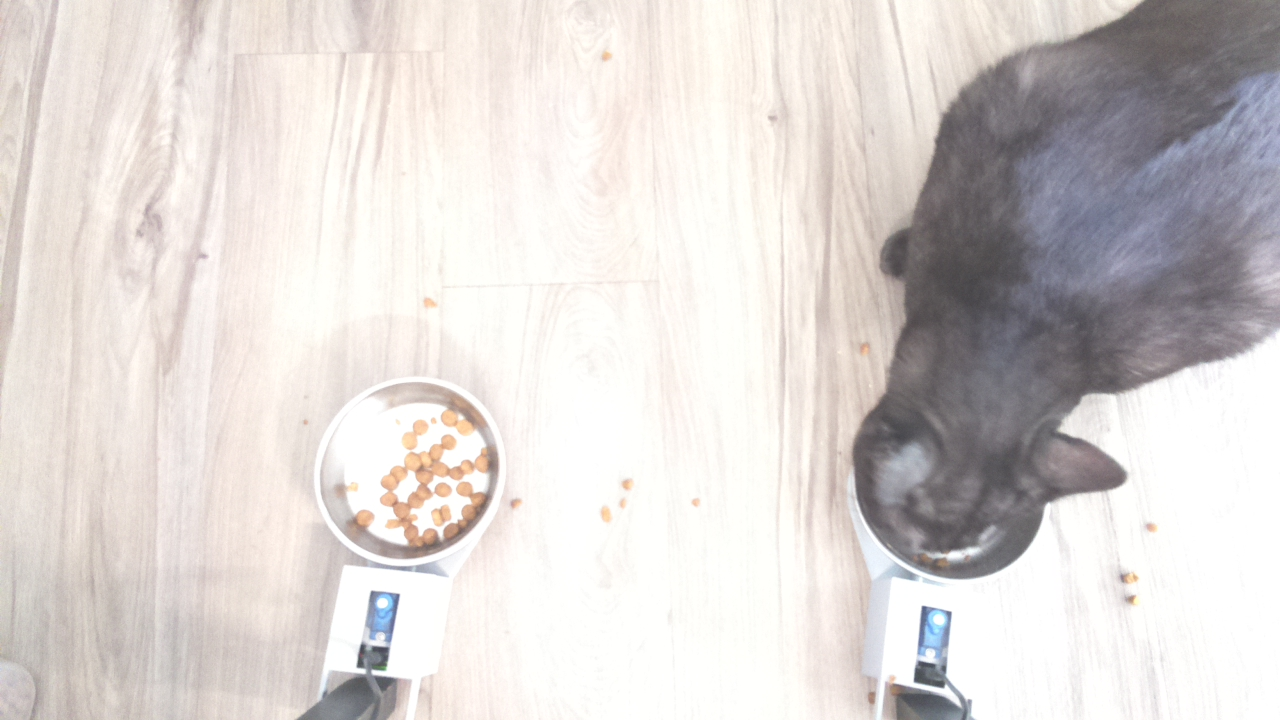open_bowl: (313, 373, 515, 569)
saki_eating: (837, 337, 1142, 590)
